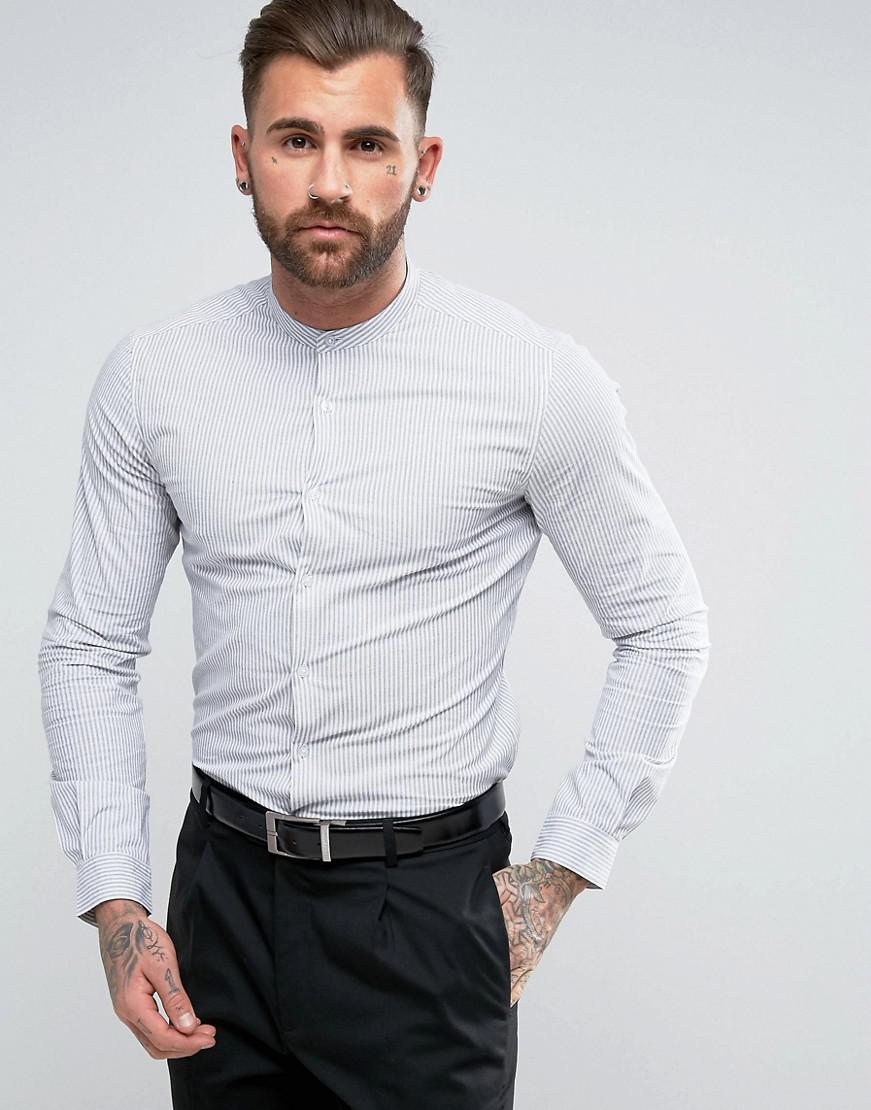teeshirt: (51, 246, 710, 881)
